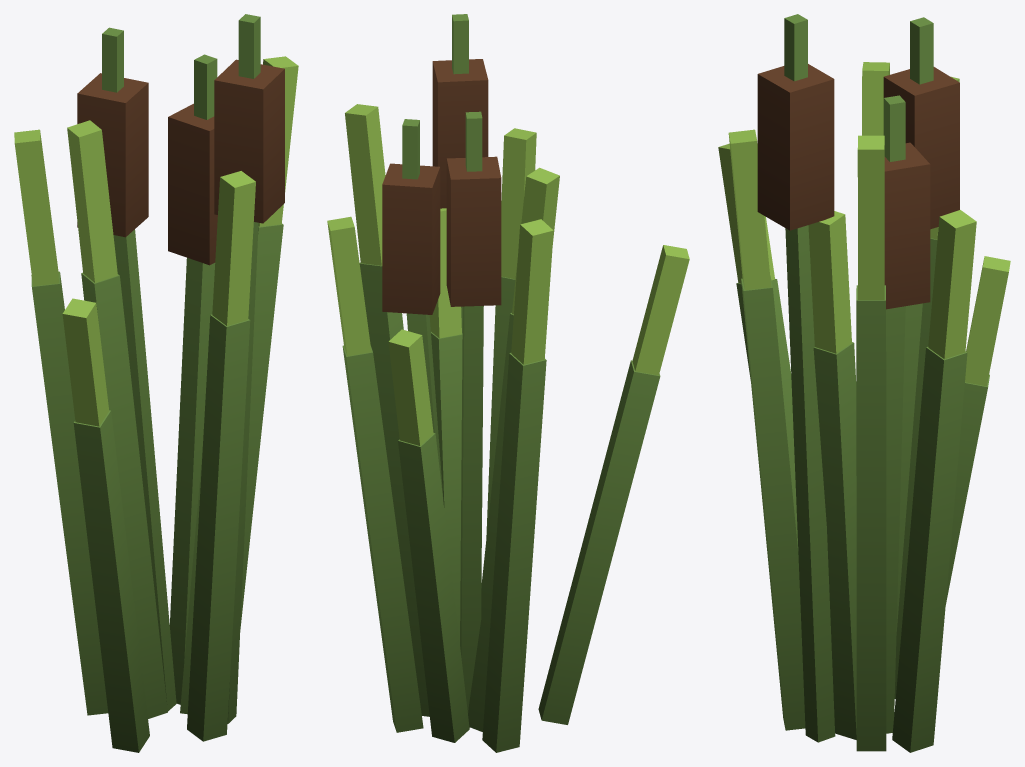
File: C06_reeds.glb
3 views of the same model, side by side, from view 1: azimuth 30°, elevation 25°; view 2: azimuth 150°, elevation 25°; view 3: azimuth 270°, elevation 25° (orthographic). The views are drawn at different scales.
Parts seen in each view (by area): view 1: C06_reeds; view 2: C06_reeds; view 3: C06_reeds.
Boxes of the visible parts, x1=… form: C06_reeds: x1=14, y1=14, x2=298, y2=752; C06_reeds: x1=327, y1=14, x2=689, y2=752; C06_reeds: x1=718, y1=14, x2=1010, y2=752.
Bounding box in the file's own units: 0.8244 × 1.9 × 0.6915.
